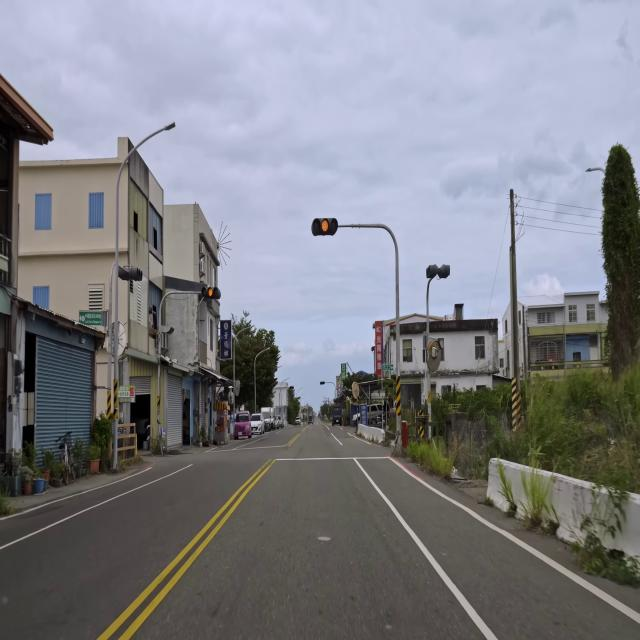yellow light: (310, 218, 338, 235), (202, 287, 220, 299)
